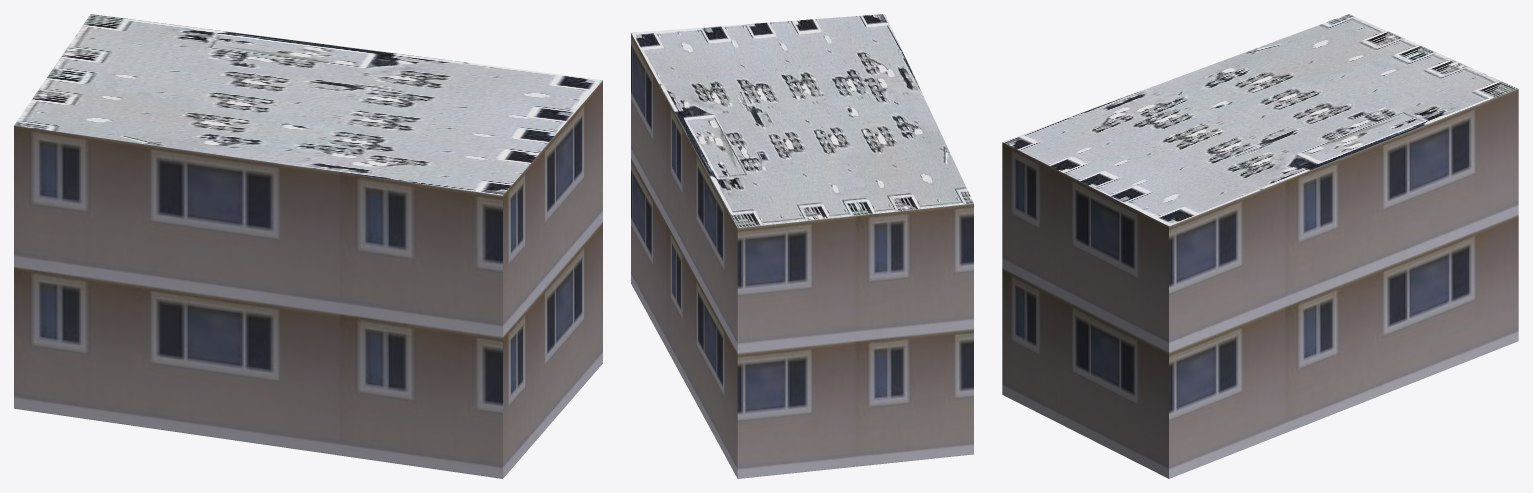
Rendered from ResTex__1470.fbx.
3 renders of one model, left to right at view 1: azimuth 30°, elevation 25°; view 2: azimuth 150°, elevation 25°; view 3: azimuth 270°, elevation 25°, orthographic. The views are drawn at different scales.
Parts seen in each view (by area): view 1: CityEngineMaterial_21_m, CityEngineMaterial_2_m; view 2: CityEngineMaterial_21_m, CityEngineMaterial_2_m; view 3: CityEngineMaterial_21_m, CityEngineMaterial_2_m.
Boxes of the visible parts, x1,y1,x2,y2 form: CityEngineMaterial_21_m: (14, 80, 602, 478); CityEngineMaterial_2_m: (14, 14, 602, 195); CityEngineMaterial_21_m: (631, 33, 973, 478); CityEngineMaterial_2_m: (631, 14, 973, 227); CityEngineMaterial_21_m: (1002, 89, 1518, 478); CityEngineMaterial_2_m: (1003, 14, 1517, 226).
Size of the model in its own units: 10.82 by 6 by 11.11.
Materials: 2 (2 with a texture image).
